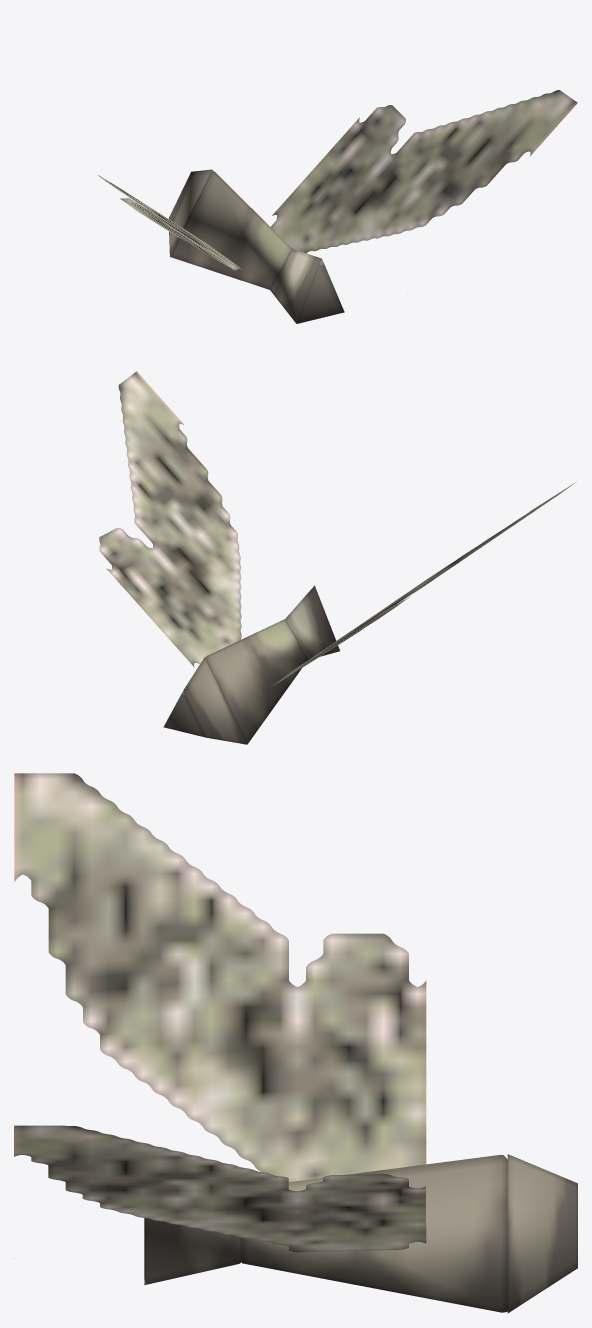
The picture shows the model from 3 angles, top to bottom: view 1: azimuth 30°, elevation 25°; view 2: azimuth 150°, elevation 25°; view 3: azimuth 270°, elevation 25°; orthographic projection. The views are drawn at different scales.
Parts seen in each view (by area): view 1: T1L2M002_8; view 2: T1L2M002_8; view 3: T1L2M002_8.
Part boxes in pixels (x1,y1,x2,y2): T1L2M002_8: (98, 90, 577, 323); T1L2M002_8: (99, 371, 575, 744); T1L2M002_8: (14, 773, 577, 1313).
Size of the model in its own units: 0.1515 by 0.0658 by 0.1016.
